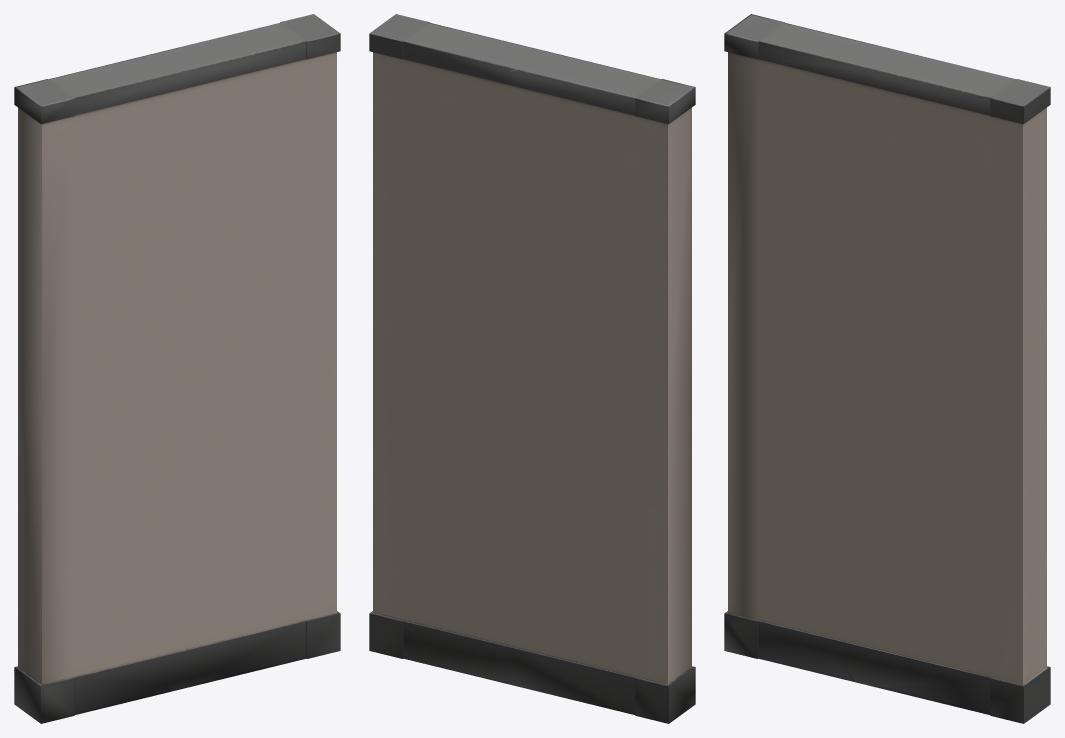
File: ENV_Wall_2m_A_v001.fbx
3 renders of one model, left to right at view 1: azimuth 30°, elevation 25°; view 2: azimuth 150°, elevation 25°; view 3: azimuth 330°, elevation 25°, orthographic.
Parts seen in each view (by area): view 1: 큐브.001; view 2: 큐브.001; view 3: 큐브.001.
Part boxes in pixels (bbox=[...]): 큐브.001: bbox=[14, 14, 340, 723]; 큐브.001: bbox=[369, 14, 695, 723]; 큐브.001: bbox=[724, 14, 1050, 723].
Size of the model in its own units: 203 by 400 by 31.56.
1 material, 1 textured.
